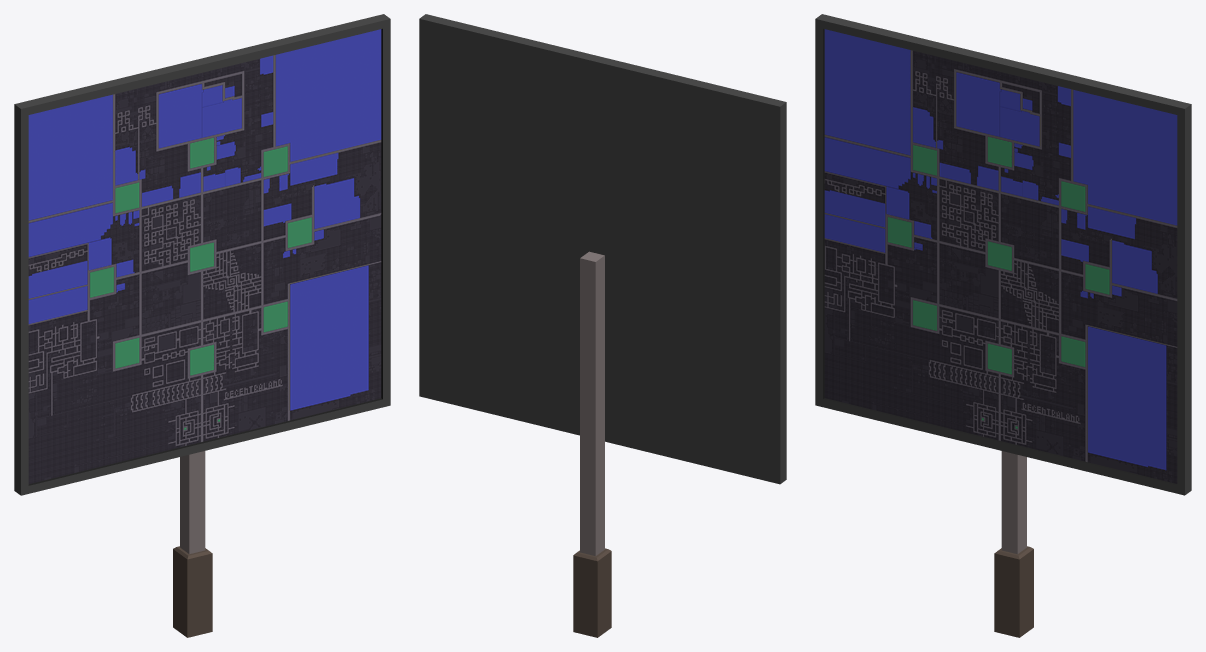
The model's file is second_auction.glb.
3 renders of one model, left to right at view 1: azimuth 30°, elevation 25°; view 2: azimuth 150°, elevation 25°; view 3: azimuth 330°, elevation 25°, orthographic. The views are drawn at different scales.
Parts seen in each view (by area): view 1: second-auction; view 2: second-auction; view 3: second-auction.
Boxes of the visible parts, <box> form: second-auction: <box>14,14,390,637</box>; second-auction: <box>419,14,786,637</box>; second-auction: <box>815,14,1191,637</box>.
Size of what is drawn, in the model's own units: 3.25 by 4.84 by 0.3174.
Materials: 2 (2 with a texture image).
